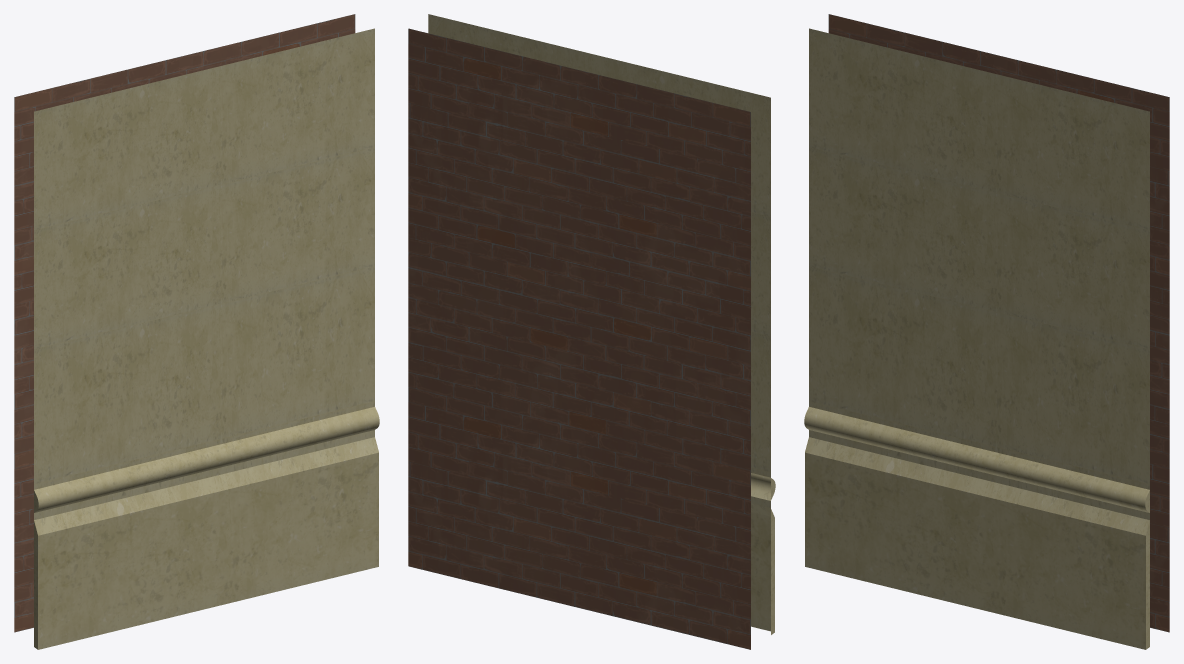
Rendered from Trim_FirstFloor_Wall.gltf.
3 views of the same model, side by side, from view 1: azimuth 30°, elevation 25°; view 2: azimuth 150°, elevation 25°; view 3: azimuth 330°, elevation 25° (orthographic).
Parts seen in each view (by area): view 1: Trim_FirstFloor_Wall; view 2: Trim_FirstFloor_Wall; view 3: Trim_FirstFloor_Wall.
Part boxes in pixels (x1,y1,x2,y2): Trim_FirstFloor_Wall: (14, 14, 379, 649); Trim_FirstFloor_Wall: (408, 14, 775, 649); Trim_FirstFloor_Wall: (804, 14, 1169, 649).
Size of the model in its own units: 2 by 3 by 0.2478.
Materials: 2 (2 with a texture image).
